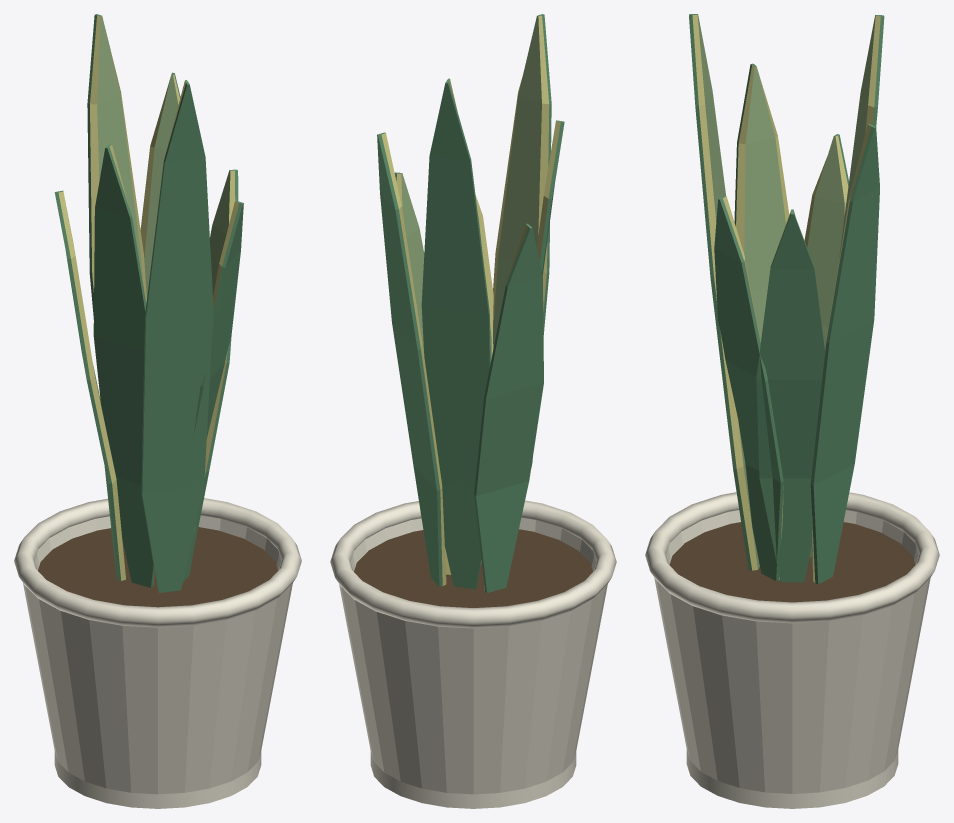
File: houseplant_snake.glb
3 views of the same model, side by side, from view 1: azimuth 30°, elevation 25°; view 2: azimuth 150°, elevation 25°; view 3: azimuth 270°, elevation 25° (orthographic). The views are drawn at different scales.
Visible parts, largest first — view 1: Snake_Plant_Open_Pot, Snake_Plant_Sword_Leaf_5, Snake_Plant_Sword_Leaf_4, Snake_Plant_Visible_Soil, Snake_Plant_Pot_Rim, Snake_Plant_Sword_Leaf_2, Snake_Plant_Sword_Leaf_6, Snake_Plant_Sword_Leaf_3, Snake_Plant_Pot_Floor, Snake_Plant_Sword_Leaf_1, Snake_Plant_Sword_Leaf_0; view 2: Snake_Plant_Open_Pot, Snake_Plant_Sword_Leaf_2, Snake_Plant_Sword_Leaf_3, Snake_Plant_Sword_Leaf_1, Snake_Plant_Pot_Rim, Snake_Plant_Visible_Soil, Snake_Plant_Sword_Leaf_5, Snake_Plant_Pot_Floor, Snake_Plant_Sword_Leaf_0, Snake_Plant_Sword_Leaf_4, Snake_Plant_Sword_Leaf_6; view 3: Snake_Plant_Open_Pot, Snake_Plant_Sword_Leaf_0, Snake_Plant_Sword_Leaf_1, Snake_Plant_Pot_Rim, Snake_Plant_Sword_Leaf_6, Snake_Plant_Visible_Soil, Snake_Plant_Sword_Leaf_4, Snake_Plant_Sword_Leaf_5, Snake_Plant_Sword_Leaf_3, Snake_Plant_Pot_Floor, Snake_Plant_Sword_Leaf_2.
Part boxes in pixels (bbox=[...]): Snake_Plant_Open_Pot: bbox=[23, 515, 292, 794]; Snake_Plant_Sword_Leaf_5: bbox=[141, 80, 213, 592]; Snake_Plant_Sword_Leaf_4: bbox=[93, 144, 154, 587]; Snake_Plant_Visible_Soil: bbox=[38, 527, 277, 607]; Snake_Plant_Pot_Rim: bbox=[14, 498, 301, 627]; Snake_Plant_Sword_Leaf_2: bbox=[87, 14, 146, 319]; Snake_Plant_Sword_Leaf_6: bbox=[183, 200, 243, 581]; Snake_Plant_Sword_Leaf_3: bbox=[54, 190, 125, 580]; Snake_Plant_Pot_Floor: bbox=[54, 751, 261, 808]; Snake_Plant_Sword_Leaf_1: bbox=[140, 72, 180, 297]; Snake_Plant_Sword_Leaf_0: bbox=[193, 169, 238, 553]; Snake_Plant_Open_Pot: bbox=[339, 517, 607, 794]; Snake_Plant_Sword_Leaf_2: bbox=[421, 78, 490, 589]; Snake_Plant_Sword_Leaf_3: bbox=[474, 223, 543, 592]; Snake_Plant_Sword_Leaf_1: bbox=[377, 132, 446, 586]; Snake_Plant_Pot_Rim: bbox=[330, 500, 616, 628]; Snake_Plant_Visible_Soil: bbox=[354, 529, 592, 607]; Snake_Plant_Sword_Leaf_5: bbox=[493, 14, 551, 467]; Snake_Plant_Pot_Floor: bbox=[370, 751, 576, 808]; Snake_Plant_Sword_Leaf_0: bbox=[394, 172, 450, 574]; Snake_Plant_Sword_Leaf_4: bbox=[536, 120, 564, 275]; Snake_Plant_Sword_Leaf_6: bbox=[475, 194, 493, 564]; Snake_Plant_Open_Pot: bbox=[654, 510, 930, 793]; Snake_Plant_Sword_Leaf_0: bbox=[756, 209, 825, 582]; Snake_Plant_Sword_Leaf_1: bbox=[810, 124, 879, 584]; Snake_Plant_Pot_Rim: bbox=[645, 492, 939, 623]; Snake_Plant_Sword_Leaf_6: bbox=[714, 195, 783, 581]; Snake_Plant_Visible_Soil: bbox=[669, 522, 915, 602]; Snake_Plant_Sword_Leaf_4: bbox=[734, 63, 789, 342]; Snake_Plant_Sword_Leaf_5: bbox=[689, 14, 759, 570]; Snake_Plant_Sword_Leaf_3: bbox=[804, 134, 848, 557]; Snake_Plant_Pot_Floor: bbox=[686, 750, 898, 808]; Snake_Plant_Sword_Leaf_2: bbox=[811, 15, 884, 565].
Size of the model in its own units: 0.392 by 1.09 by 0.392.
